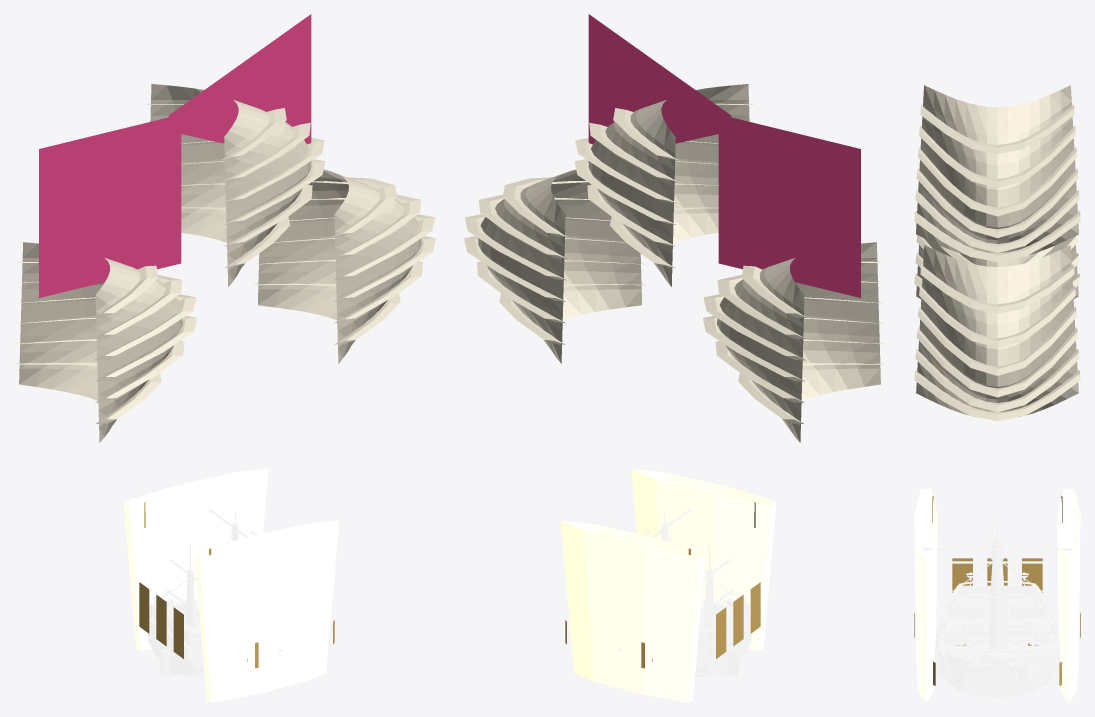
File: navire-jonque.glb
3 renders of one model, left to right at view 1: azimuth 30°, elevation 25°; view 2: azimuth 150°, elevation 25°; view 3: azimuth 270°, elevation 25°, orthographic.
Parts seen in each view (by area): view 1: navire_lumieres.006, drapeau.011, voile_artimon.010, voile_misaine.011, voile_grande.011, flamme.011, navire_corps.011, navire_vitres.006; view 2: navire_lumieres.006, drapeau.011, voile_artimon.010, voile_misaine.011, voile_grande.011, flamme.011, navire_corps.011, navire_vitres.006; view 3: voile_grande.011, voile_misaine.011, navire_corps.011, navire_lumieres.006, voile_artimon.010, navire_vitres.006.
Boxes of the visible parts, <box> form: navire_lumieres.006: <box>123,468,339,702</box>; drapeau.011: <box>39,115,181,297</box>; voile_artimon.010: <box>14,242,196,442</box>; voile_misaine.011: <box>253,169,435,363</box>; voile_grande.011: <box>146,84,325,286</box>; flamme.011: <box>168,14,311,162</box>; navire_corps.011: <box>147,509,281,677</box>; navire_vitres.006: <box>139,501,334,668</box>; navire_lumieres.006: <box>560,468,776,702</box>; drapeau.011: <box>718,115,860,297</box>; voile_artimon.010: <box>703,242,885,442</box>; voile_misaine.011: <box>464,169,646,363</box>; voile_grande.011: <box>574,84,753,286</box>; flamme.011: <box>588,14,731,162</box>; navire_corps.011: <box>618,509,752,677</box>; navire_vitres.006: <box>565,501,760,668</box>; voile_grande.011: <box>914,85,1080,262</box>; voile_misaine.011: <box>914,245,1080,421</box>; navire_corps.011: <box>914,524,1080,697</box>; navire_lumieres.006: <box>914,488,1080,702</box>; voile_artimon.010: <box>914,235,1080,298</box>; navire_vitres.006: <box>914,496,1080,685</box>.
Size of the model in its own units: 5.57 by 8.42 by 2.
